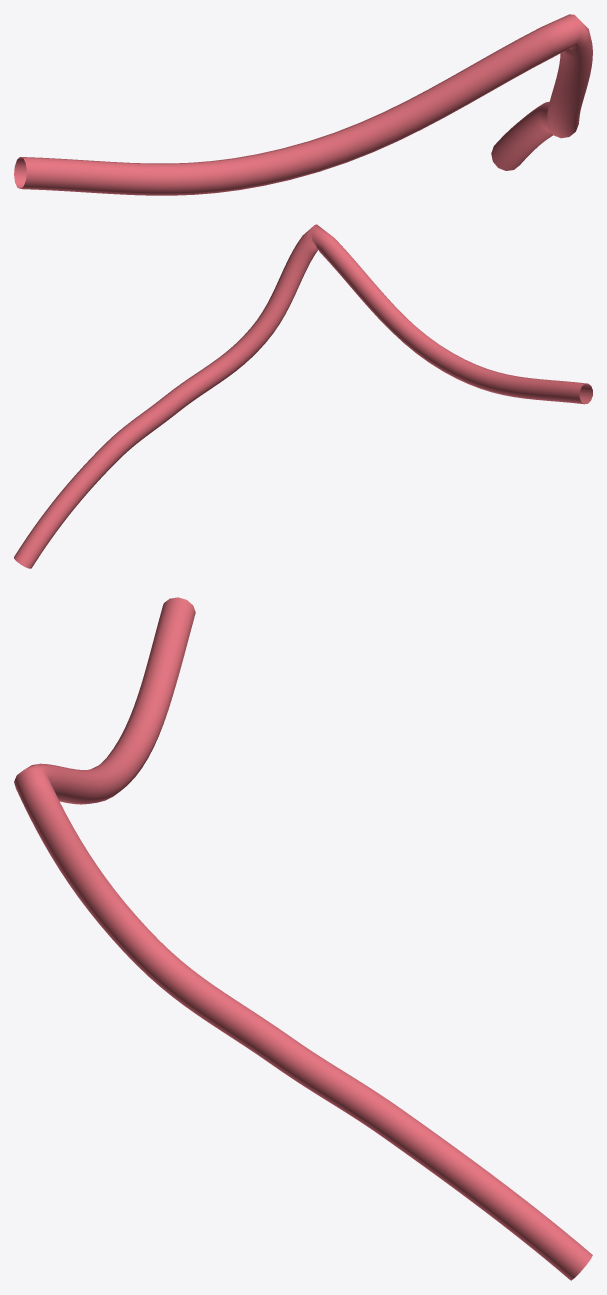
3 renders of one model, top to bottom at view 1: azimuth 30°, elevation 25°; view 2: azimuth 150°, elevation 25°; view 3: azimuth 270°, elevation 25°, orthographic. The views are drawn at different scales.
Visible parts, largest first — view 1: ZA_709a01d0f77829ae; view 2: ZA_709a01d0f77829ae; view 3: ZA_709a01d0f77829ae.
Part boxes in pixels (x1,y1,x2,y2): ZA_709a01d0f77829ae: (14,14,592,195); ZA_709a01d0f77829ae: (14,224,592,568); ZA_709a01d0f77829ae: (14,597,592,1280).
Bounding box in the file's own units: 0.0444 × 0.0237 × 0.0301.
